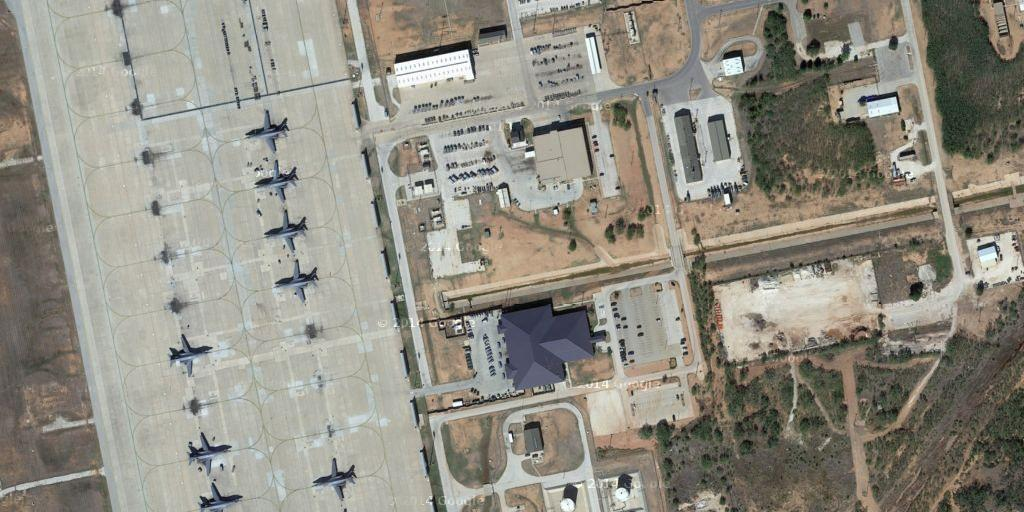B-1B: (181, 431, 239, 477), (240, 107, 294, 155), (248, 161, 307, 204), (269, 260, 323, 306), (165, 331, 218, 377), (312, 456, 362, 500), (259, 211, 312, 251), (196, 479, 242, 511)
